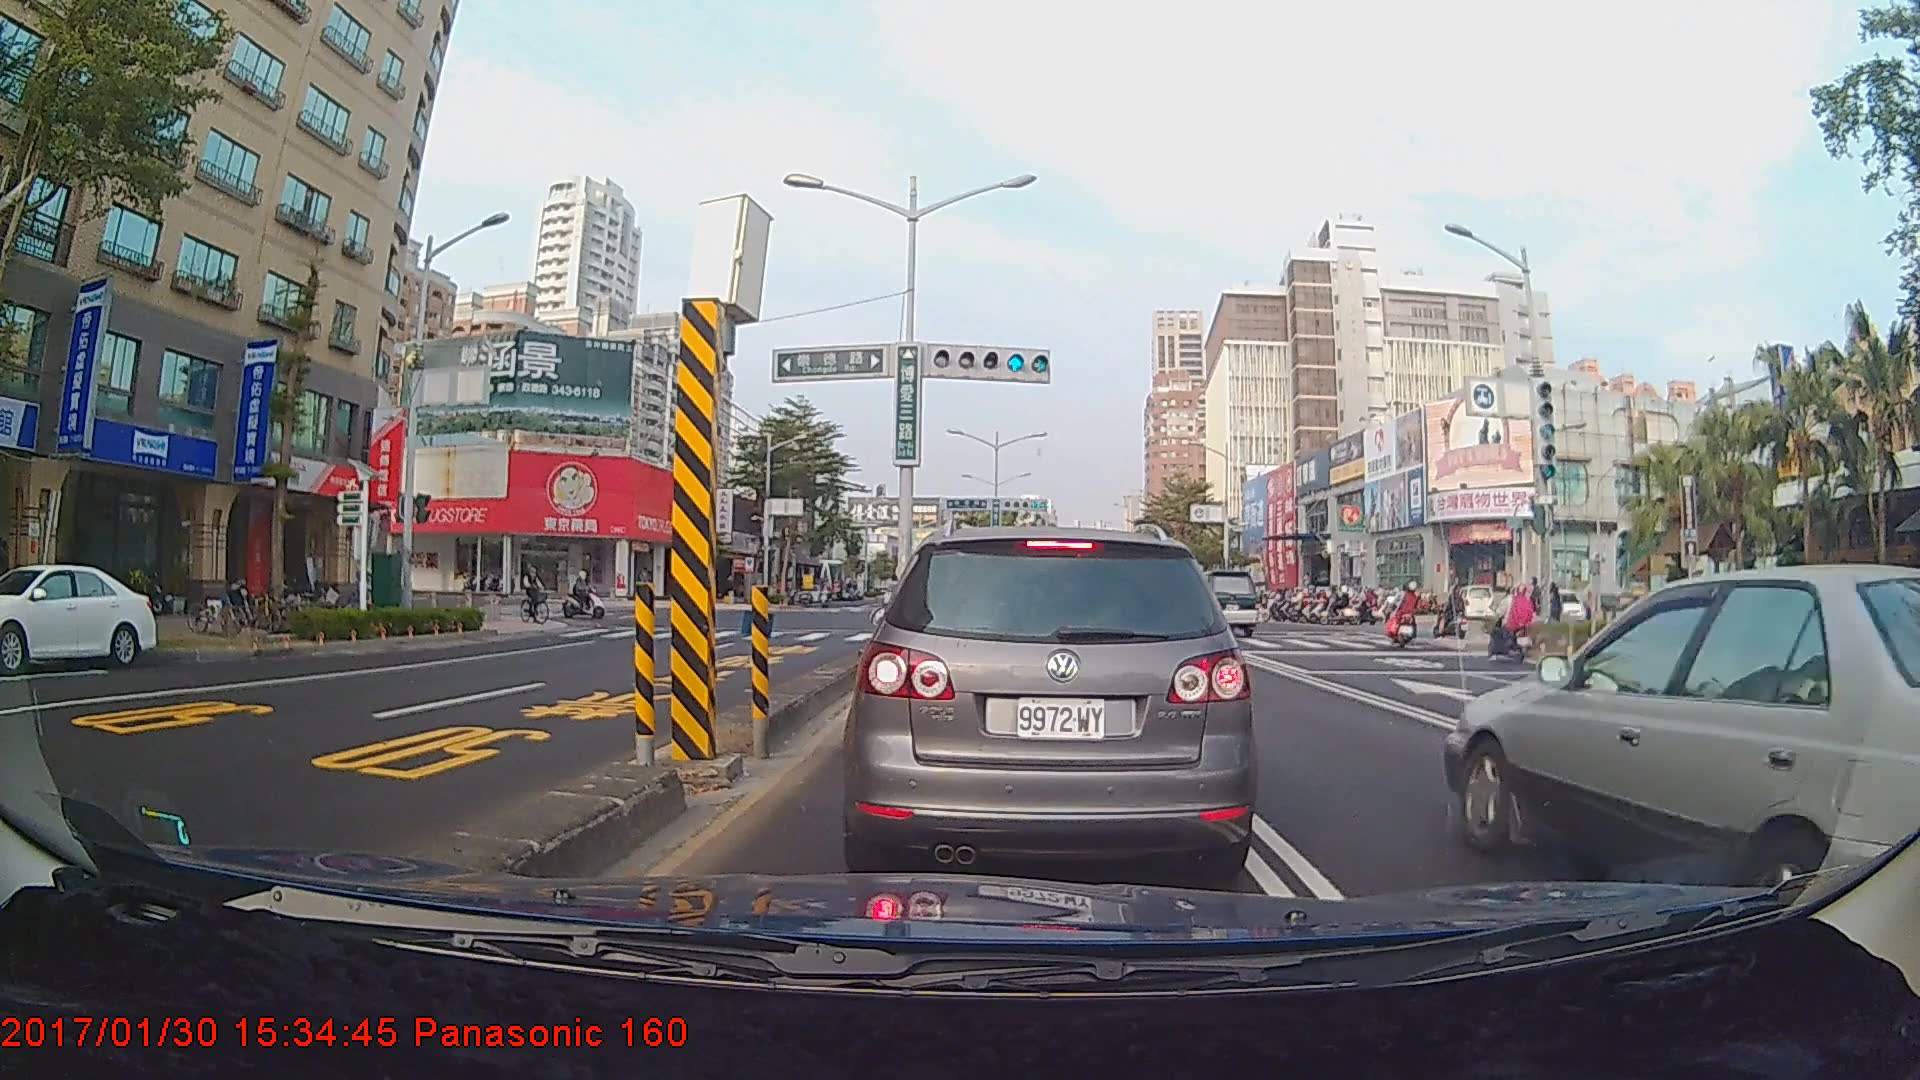pedestrian: (1545, 578, 1565, 637)
rider: (1476, 582, 1534, 664), (1383, 582, 1426, 652), (518, 559, 561, 629), (564, 568, 615, 625), (1436, 582, 1473, 646)
vehicle: (1442, 561, 1919, 924), (854, 520, 1251, 878), (0, 561, 160, 671), (1175, 567, 1260, 638)
